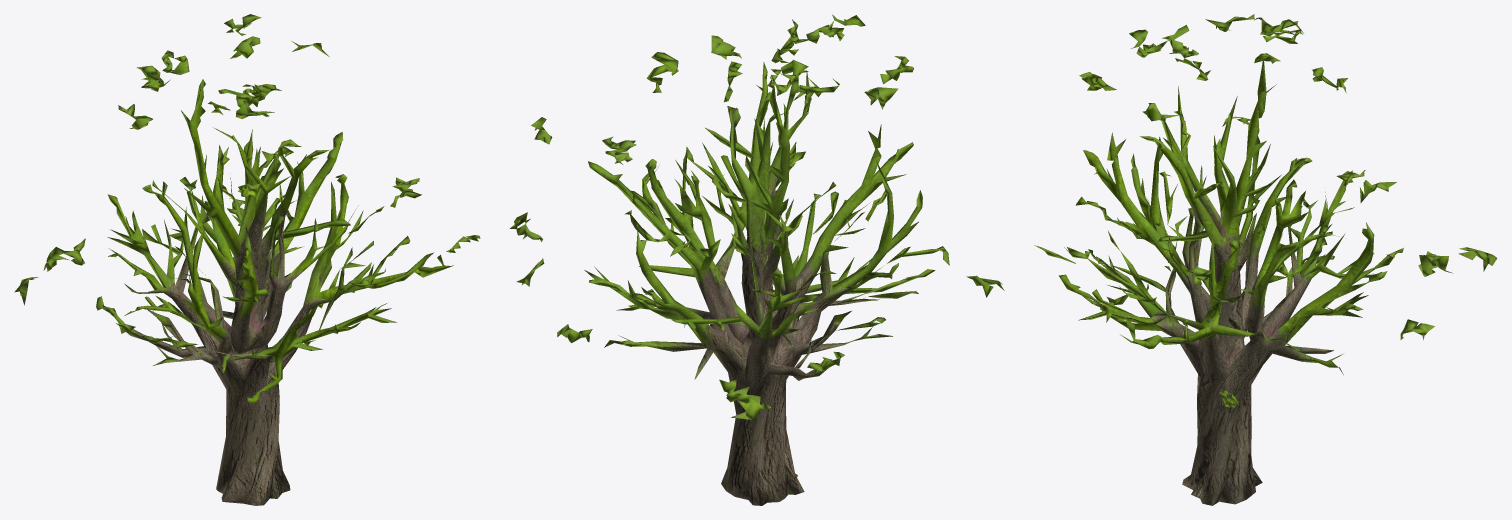
Rendered from tree_maple.glb.
3 views of the same model, side by side, from view 1: azimuth 30°, elevation 25°; view 2: azimuth 150°, elevation 25°; view 3: azimuth 270°, elevation 25° (orthographic). The views are drawn at different scales.
Parts seen in each view (by area): view 1: Mesh_0; view 2: Mesh_0; view 3: Mesh_0.
Part boxes in pixels (box(x1,y1,x2,y2)): Mesh_0: box(14, 14, 480, 505); Mesh_0: box(510, 14, 1004, 505); Mesh_0: box(1034, 14, 1497, 505).
Bounding box in the file's own units: 1.77 × 1.59 × 1.5.
1 material, 1 textured.
